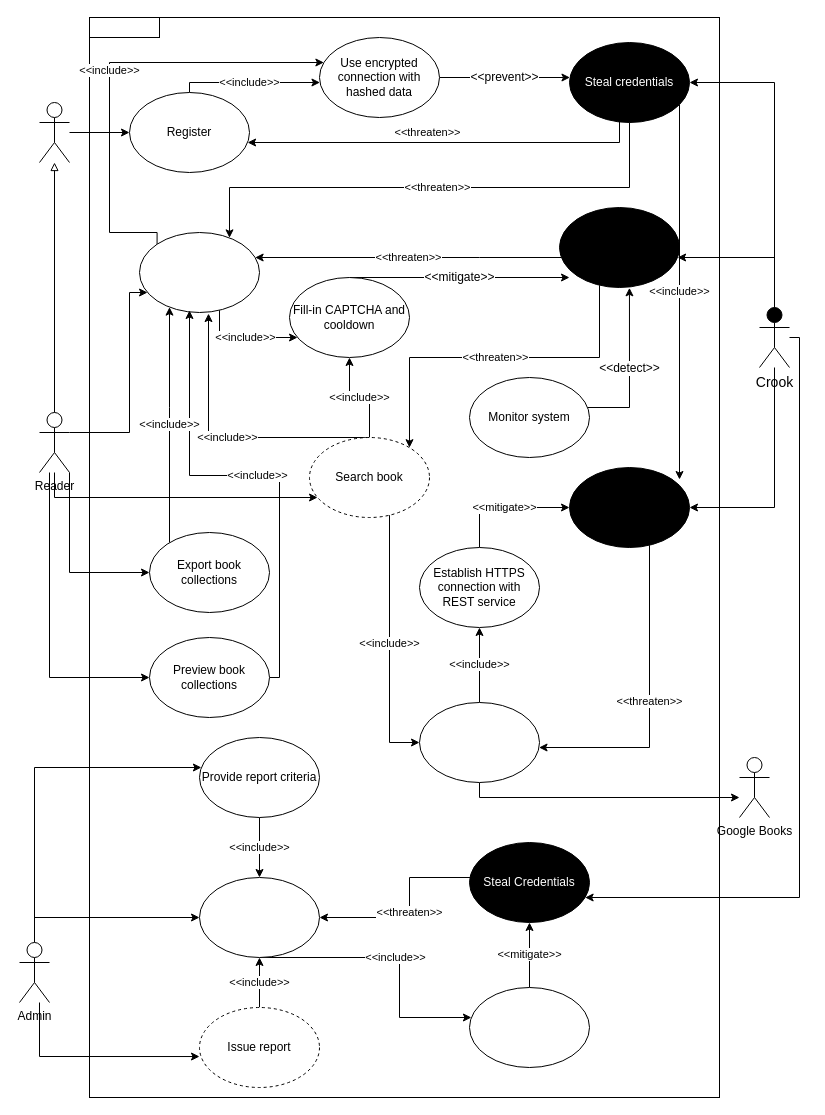
Image size: 825x1115. Some labels were removed from this diagram. The shapes that lost their labels are listed below. From the top down, each one's box as (x1, y1, x2, y2) in pixels, then its label:
(88, 16, 160, 38): Bookhub
(38, 102, 70, 162): Unregistered
(558, 206, 680, 288): Flood system
(138, 232, 260, 312): Login
(568, 466, 690, 548): Eavesdrop query
(418, 702, 540, 782): Fetch book results
(198, 876, 320, 958): Admin Login
(468, 986, 590, 1068): Two-factor authentication
